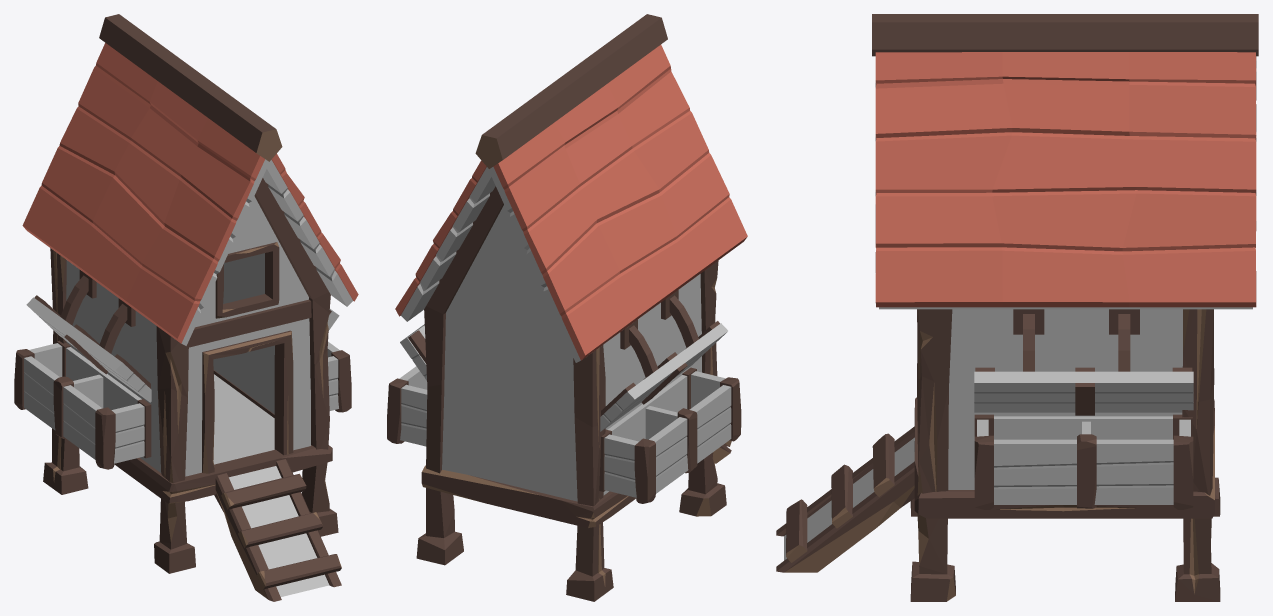
The model's file is Henhouse.fbx.
The picture shows the model from 3 angles, left to right: view 1: azimuth 30°, elevation 25°; view 2: azimuth 150°, elevation 25°; view 3: azimuth 270°, elevation 25°; orthographic projection. The views are drawn at different scales.
Visible parts, largest first — view 1: Henhouse.001; view 2: Henhouse.001; view 3: Henhouse.001.
Boxes of the visible parts, left/top/right/bottom form: Henhouse.001: left=14, top=14, right=358, bottom=601; Henhouse.001: left=387, top=14, right=747, bottom=601; Henhouse.001: left=776, top=14, right=1258, bottom=601.
Bounding box in the file's own units: 58.15 × 97.15 × 79.68.
